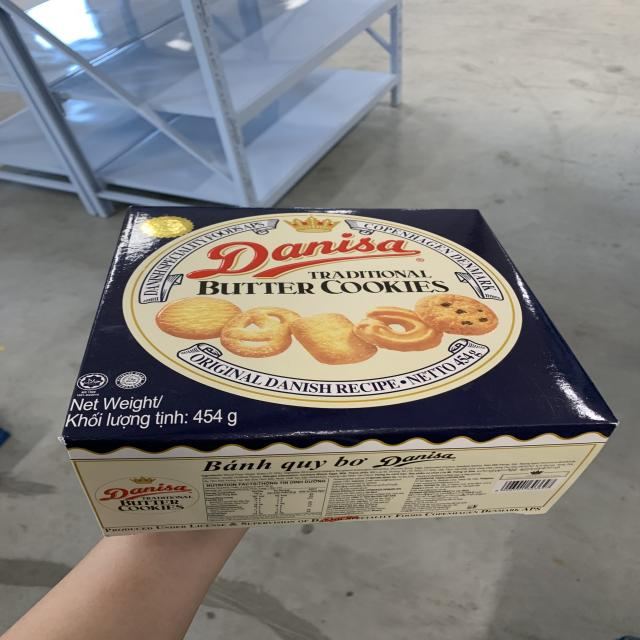object_name: (74, 207, 560, 521)
